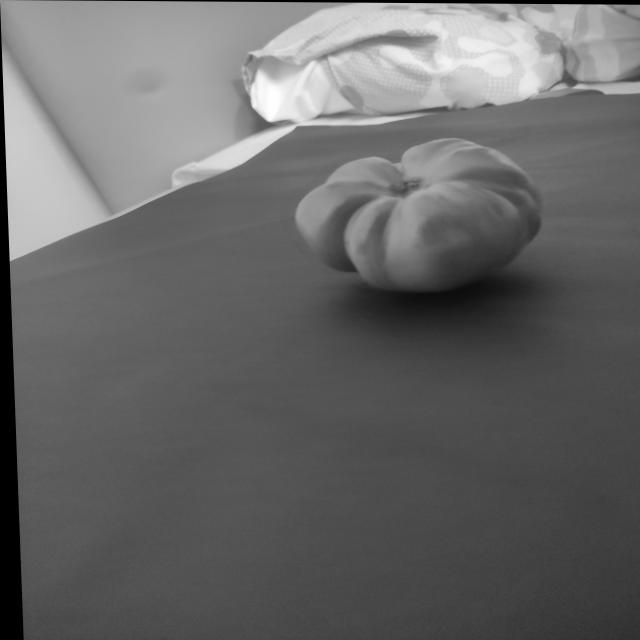yesil: (273, 134, 565, 296)
